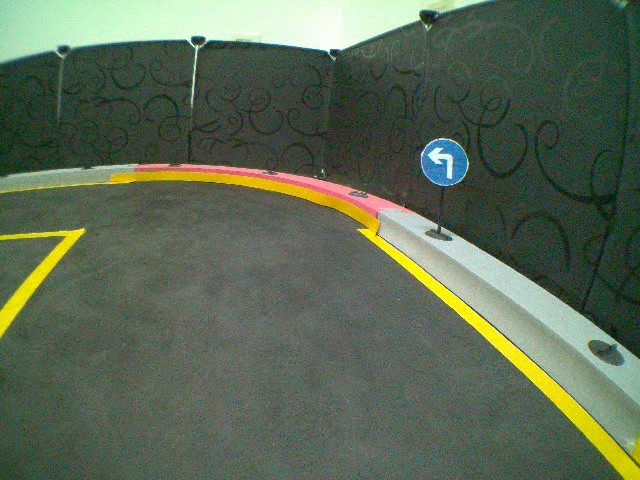turn: (420, 137, 471, 187)
